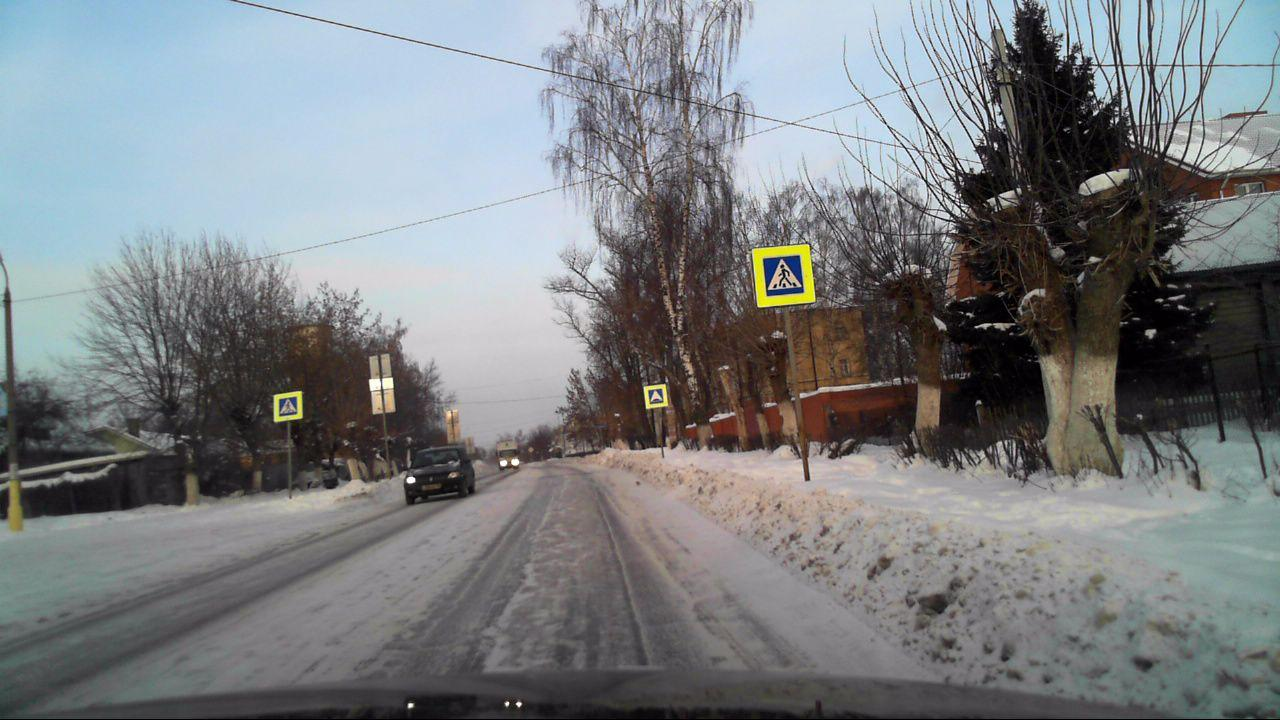5_19_1: (762, 255, 805, 296)
5_19_2: (279, 397, 299, 416)
5_20: (648, 388, 664, 405)
